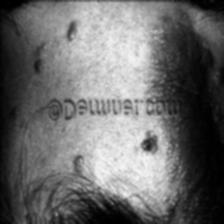Unclassified: (25, 11, 224, 93), (60, 116, 224, 178)
